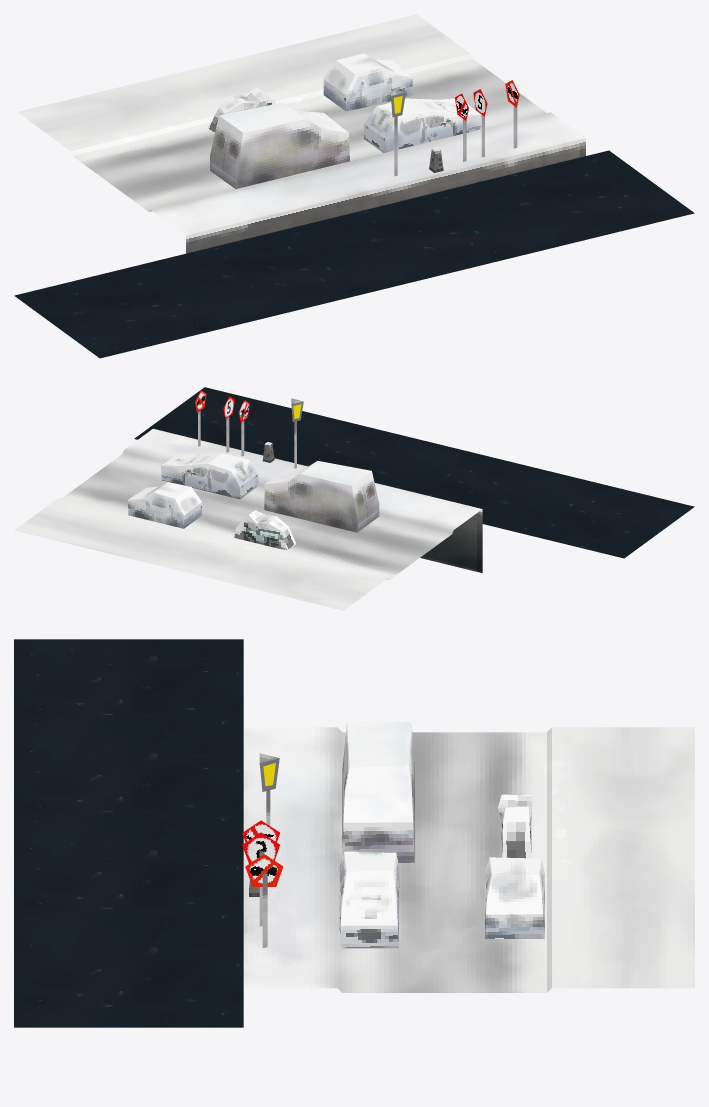
The model's file is road.glb.
3 views of the same model, one above another, from view 1: azimuth 30°, elevation 25°; view 2: azimuth 150°, elevation 25°; view 3: azimuth 270°, elevation 25° (orthographic). The views are drawn at different scales.
Parts seen in each view (by area): view 1: road, water, car2, car1, car3, car4; view 2: road, water, car2, car1, car3, car4; view 3: road, water, car2, car1, car3, car4, sign3, sign1.
Part boxes in pixels (x1,y1,x2,y2): road: [17, 14, 585, 253]; water: [14, 150, 694, 358]; car2: [210, 102, 349, 188]; car1: [364, 98, 481, 152]; car3: [323, 53, 412, 111]; car4: [208, 87, 275, 133]; road: [14, 428, 482, 610]; water: [134, 387, 694, 558]; car2: [264, 460, 379, 532]; car1: [161, 453, 258, 499]; car3: [128, 482, 201, 528]; car4: [234, 510, 296, 550]; road: [243, 727, 694, 992]; water: [14, 639, 243, 1027]; car2: [342, 721, 414, 862]; car1: [339, 851, 399, 948]; car3: [485, 857, 544, 939]; car4: [498, 794, 532, 858]; sign3: [245, 854, 283, 947]; sign1: [242, 832, 279, 926].
Bounding box in the file's own units: 25.08 × 6.51 × 18.59.
Materials: 4 (4 with a texture image).
